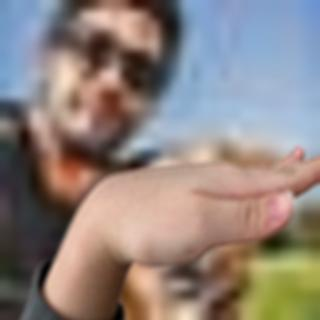Wait: (54, 144, 320, 265)
